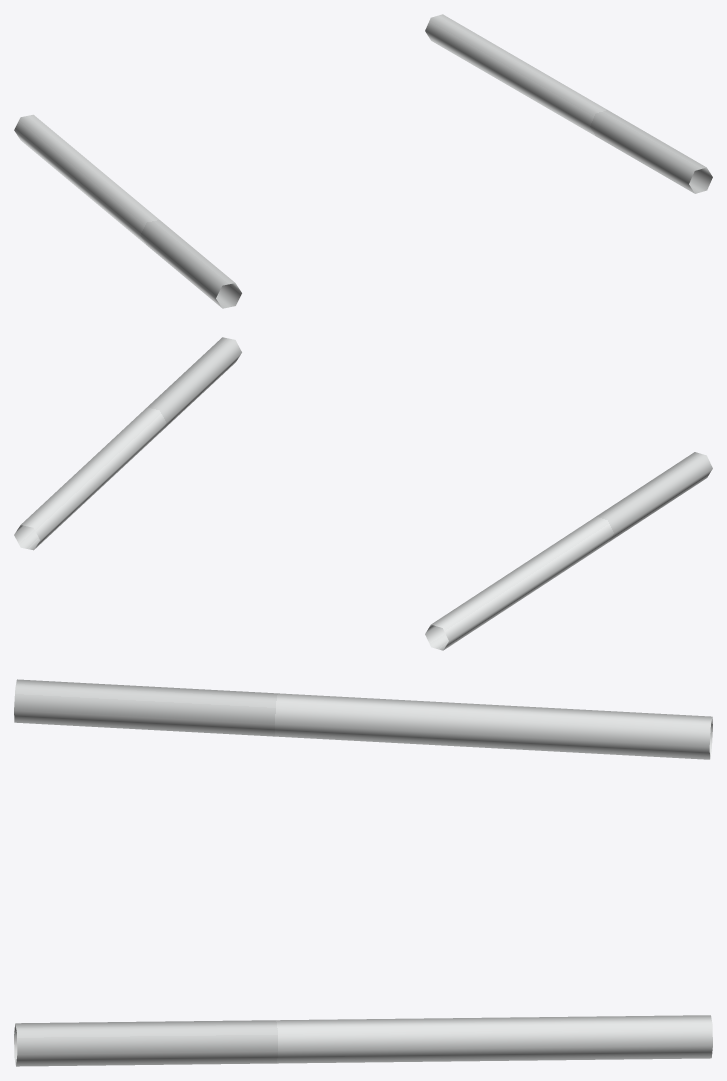
File: nycsignalarm_regular8_c4.obj
The picture shows the model from 3 angles, top to bottom: view 1: azimuth 30°, elevation 25°; view 2: azimuth 150°, elevation 25°; view 3: azimuth 270°, elevation 25°; orthographic projection. The views are drawn at different scales.
Parts seen in each view (by area): view 1: nycsignalarm_regular8_c4; view 2: nycsignalarm_regular8_c4; view 3: nycsignalarm_regular8_c4.
Boxes of the visible parts, x1=… form: nycsignalarm_regular8_c4: x1=14, y1=14, x2=712, y2=308; nycsignalarm_regular8_c4: x1=14, y1=337, x2=712, y2=650; nycsignalarm_regular8_c4: x1=14, y1=679, x2=712, y2=1066.
Bounding box in the file's own units: 1.23 × 0.0772 × 1.
